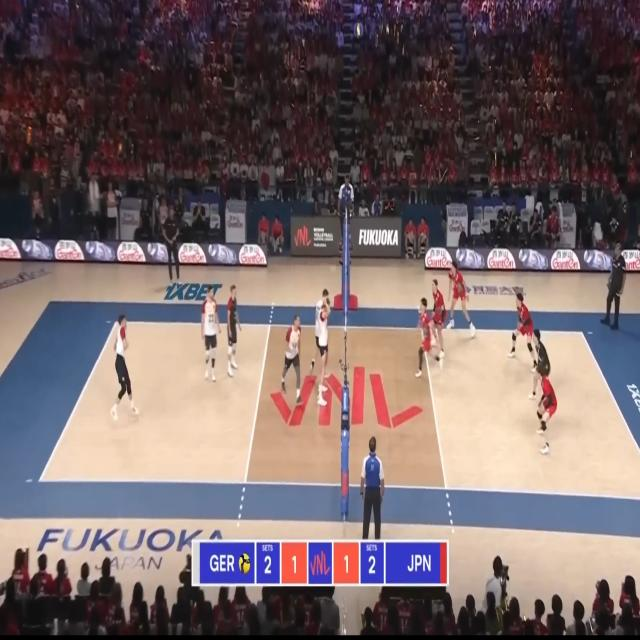ball: (331, 264, 336, 272)
